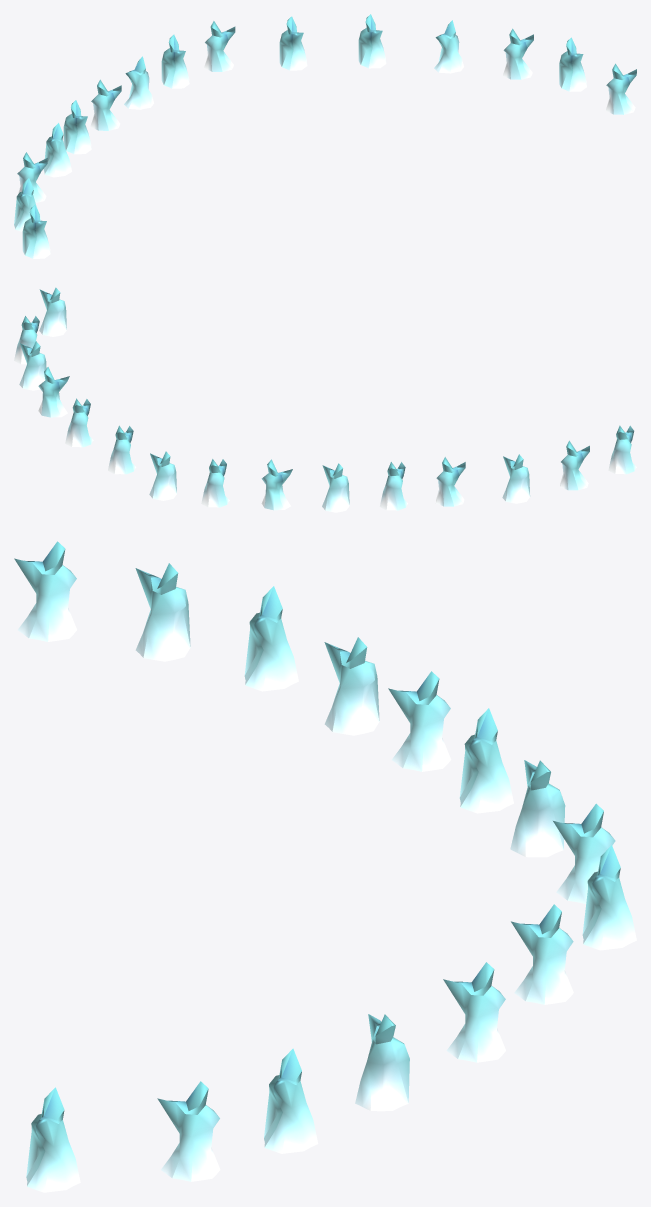
Rendered from LV9Torch.fbx.
3 views of the same model, one above another, from view 1: azimuth 30°, elevation 25°; view 2: azimuth 150°, elevation 25°; view 3: azimuth 270°, elevation 25° (orthographic). The views are drawn at different scales.
Parts seen in each view (by area): view 1: polySurface82; view 2: polySurface82; view 3: polySurface82.
Part boxes in pixels (box(x1,y1,x2,y2)): polySurface82: box(14, 14, 636, 258); polySurface82: box(14, 287, 636, 512); polySurface82: box(14, 541, 636, 1192).
Bounding box in the file's own units: 92.59 × 6.71 × 42.36.
